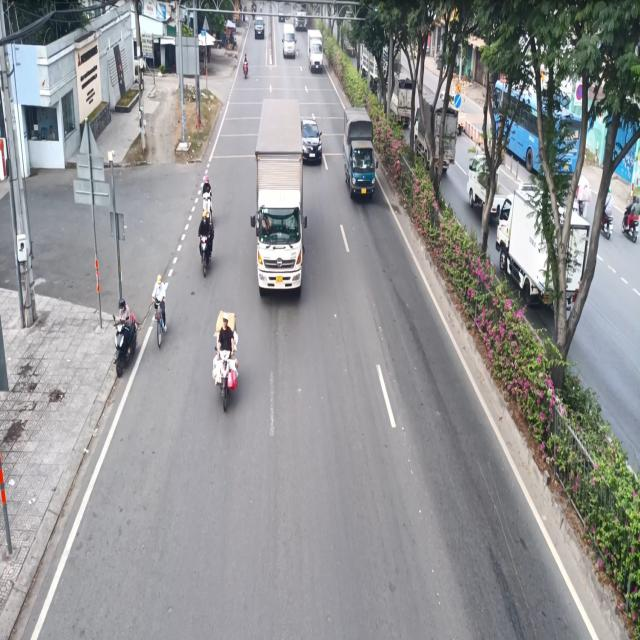car: (302, 114, 321, 170)
motor: (111, 291, 136, 382), (215, 313, 237, 413), (197, 217, 216, 279)
truck: (253, 92, 302, 305), (342, 101, 380, 199)
